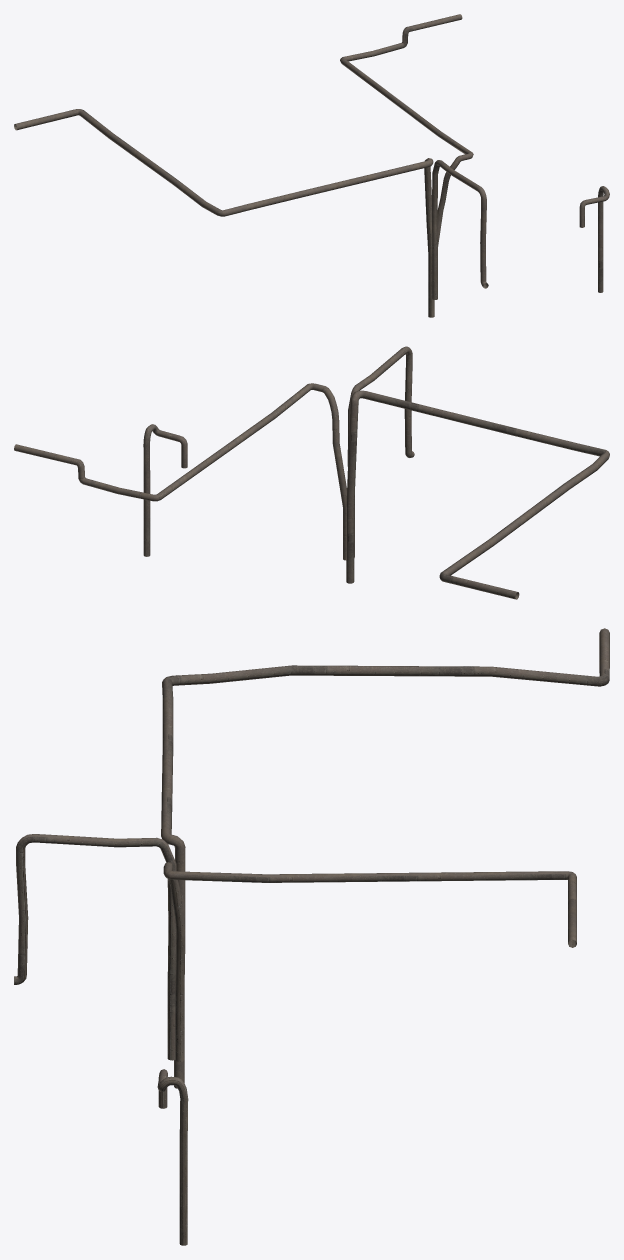
The model's file is Corridor_01_05.fbx.
3 views of the same model, one above another, from view 1: azimuth 30°, elevation 25°; view 2: azimuth 150°, elevation 25°; view 3: azimuth 270°, elevation 25° (orthographic). The views are drawn at different scales.
Visible parts, largest first — view 1: Corridor_01_05; view 2: Corridor_01_05; view 3: Corridor_01_05.
Boxes of the visible parts, x1=… form: Corridor_01_05: x1=14, y1=14, x2=609, y2=317; Corridor_01_05: x1=14, y1=346, x2=609, y2=599; Corridor_01_05: x1=14, y1=628, x2=609, y2=1245.
Bounding box in the file's own units: 2419 × 970 × 1784.
